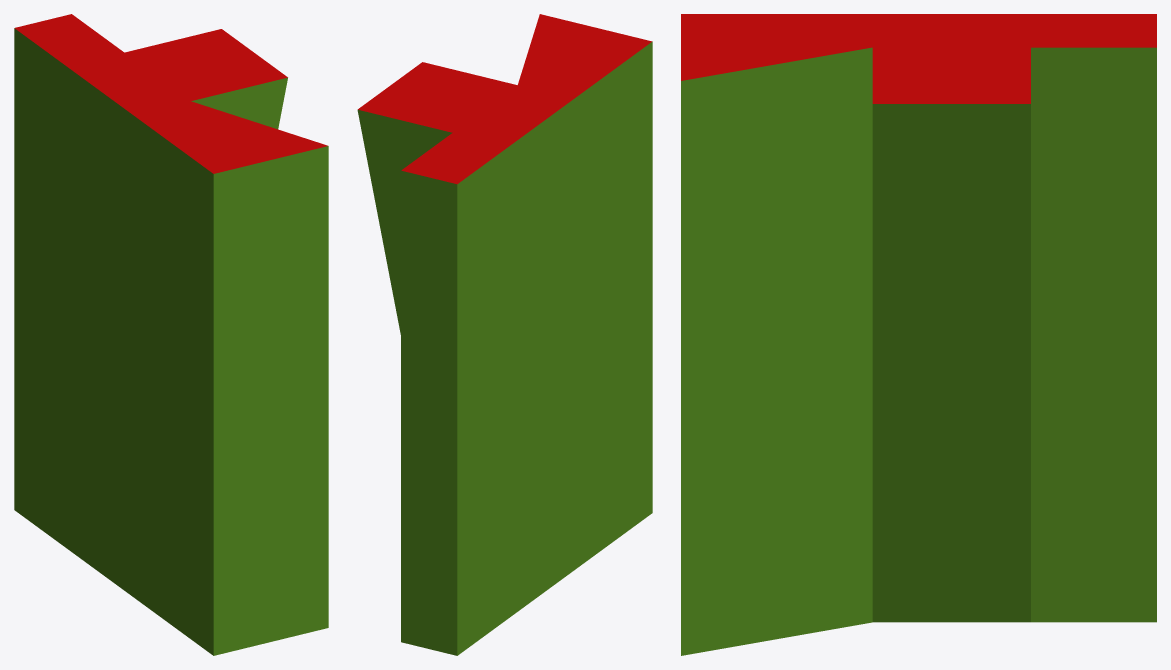
File: x_skala_crash_secret_door_1_mirror.fbx
3 views of the same model, side by side, from view 1: azimuth 30°, elevation 25°; view 2: azimuth 150°, elevation 25°; view 3: azimuth 270°, elevation 25° (orthographic). The views are drawn at different scales.
Visible parts, largest first — view 1: x_skala_crash_secret_door_1_mirror1; view 2: x_skala_crash_secret_door_1_mirror1; view 3: x_skala_crash_secret_door_1_mirror1.
Boxes of the visible parts, x1,y1,x2,y2 form: x_skala_crash_secret_door_1_mirror1: (14, 14, 328, 655); x_skala_crash_secret_door_1_mirror1: (357, 14, 652, 655); x_skala_crash_secret_door_1_mirror1: (681, 14, 1156, 655).
Size of the model in its own units: 1.34 by 4 by 3.
